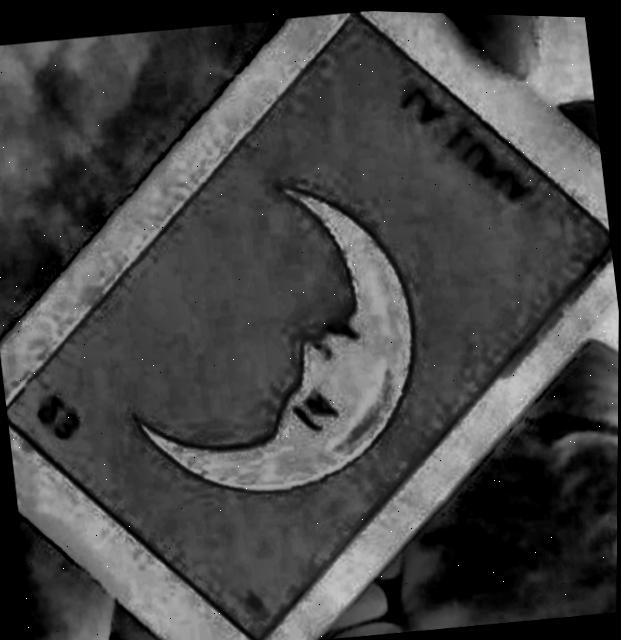La Luna: (6, 12, 610, 640)
